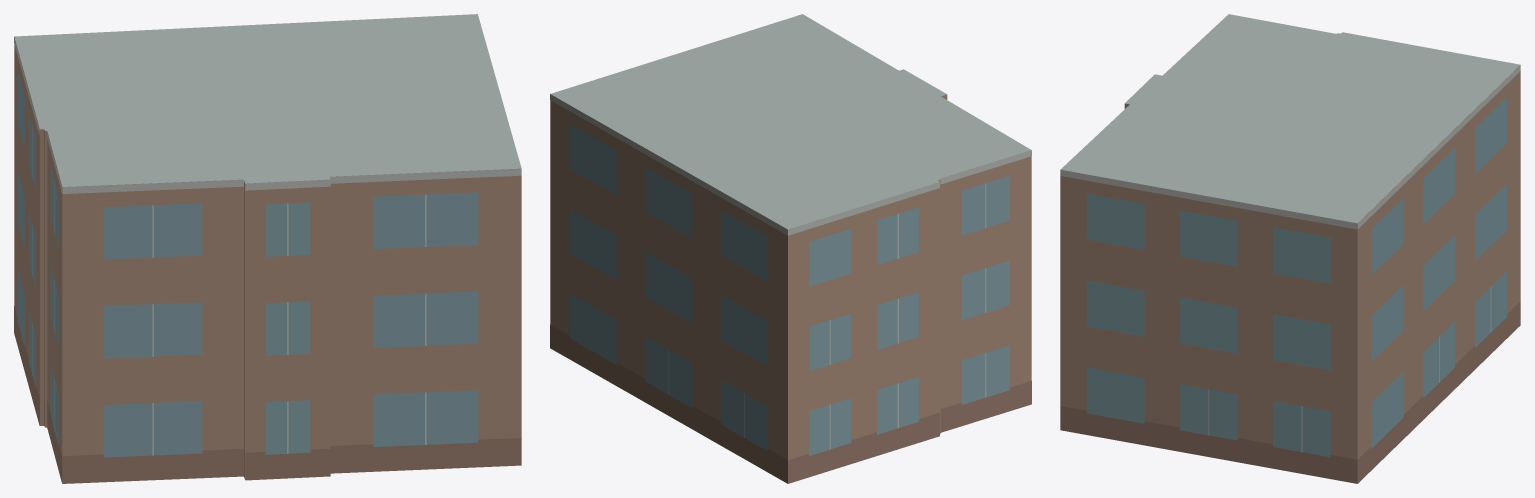
File: survey-upis-32933487.glb
3 renders of one model, left to right at view 1: azimuth 30°, elevation 25°; view 2: azimuth 150°, elevation 25°; view 3: azimuth 270°, elevation 25°, orthographic. The views are drawn at different scales.
Visible parts, largest first — view 1: survey-upis-32933487.tmp; view 2: survey-upis-32933487.tmp; view 3: survey-upis-32933487.tmp.
Part boxes in pixels (left/top/right/bottom): survey-upis-32933487.tmp: left=14, top=14, right=521, bottom=483; survey-upis-32933487.tmp: left=550, top=14, right=1031, bottom=483; survey-upis-32933487.tmp: left=1060, top=14, right=1520, bottom=483.
Size of the model in its own units: 17.59 by 10.2 by 16.34.
